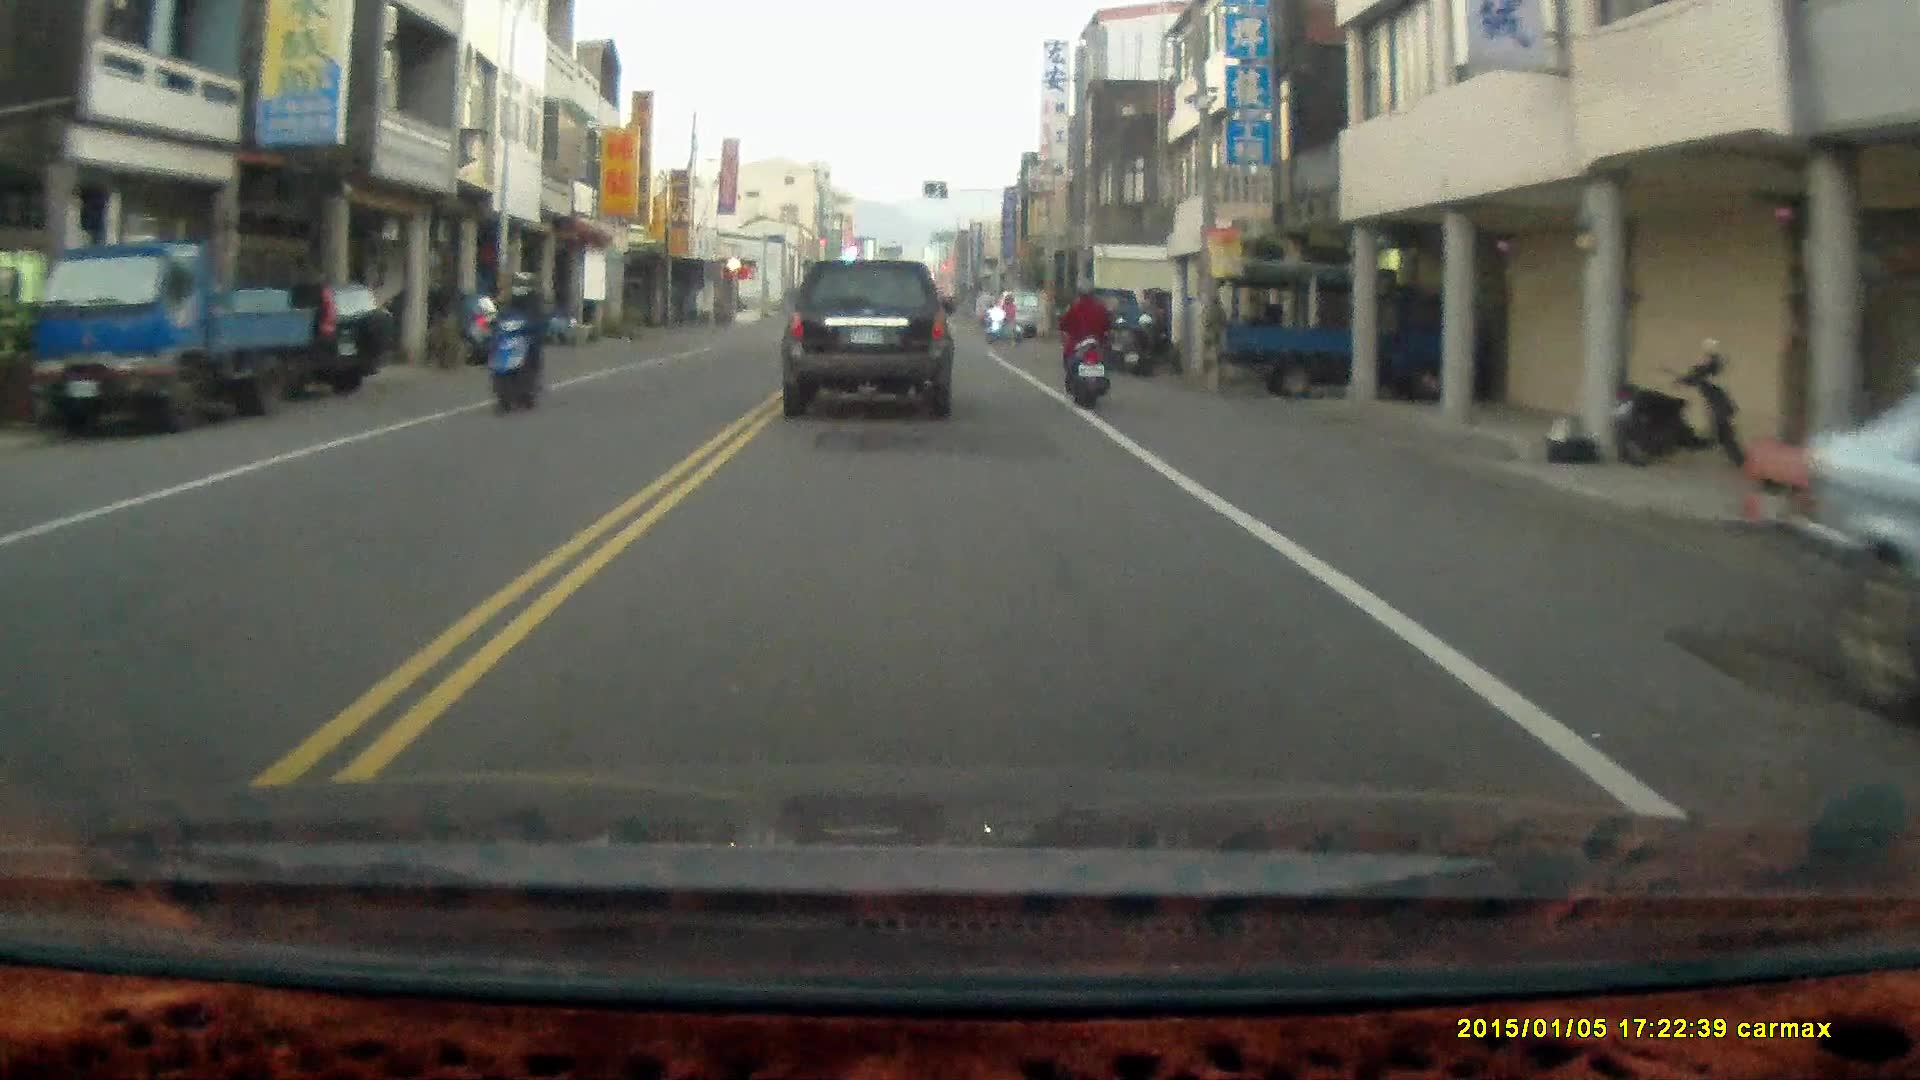rider: (484, 272, 551, 415), (1059, 276, 1112, 410), (983, 295, 1022, 344)
vehicle: (32, 243, 310, 440), (1787, 373, 1920, 728), (1215, 269, 1491, 410), (781, 256, 957, 422), (205, 279, 399, 401), (362, 290, 510, 367)
